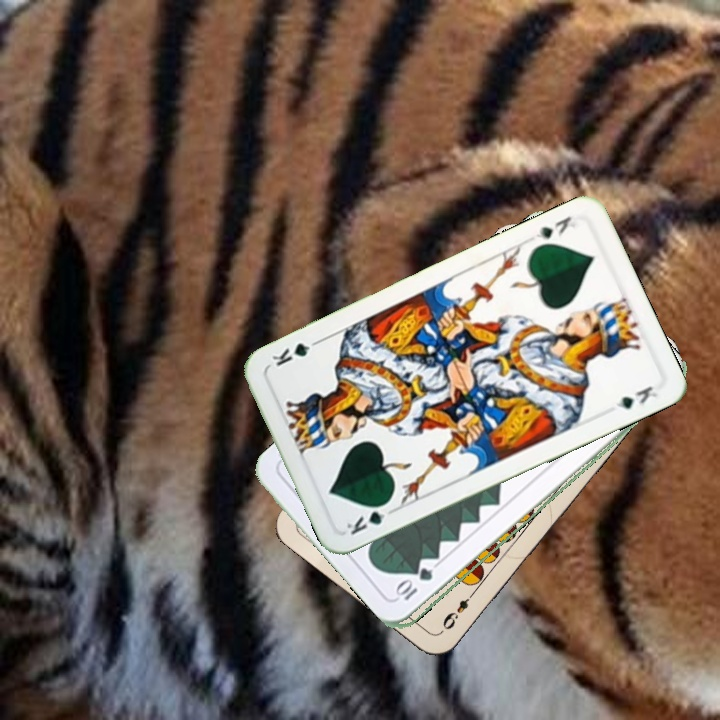E9: (438, 585, 479, 633)
G10: (394, 565, 436, 603)
GK: (342, 497, 393, 538), (532, 212, 579, 242)
